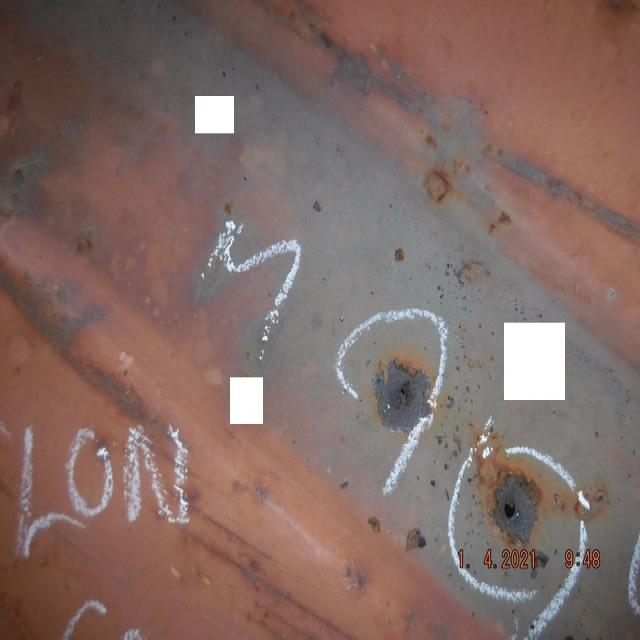hole: (373, 362, 435, 440), (489, 468, 545, 550)
